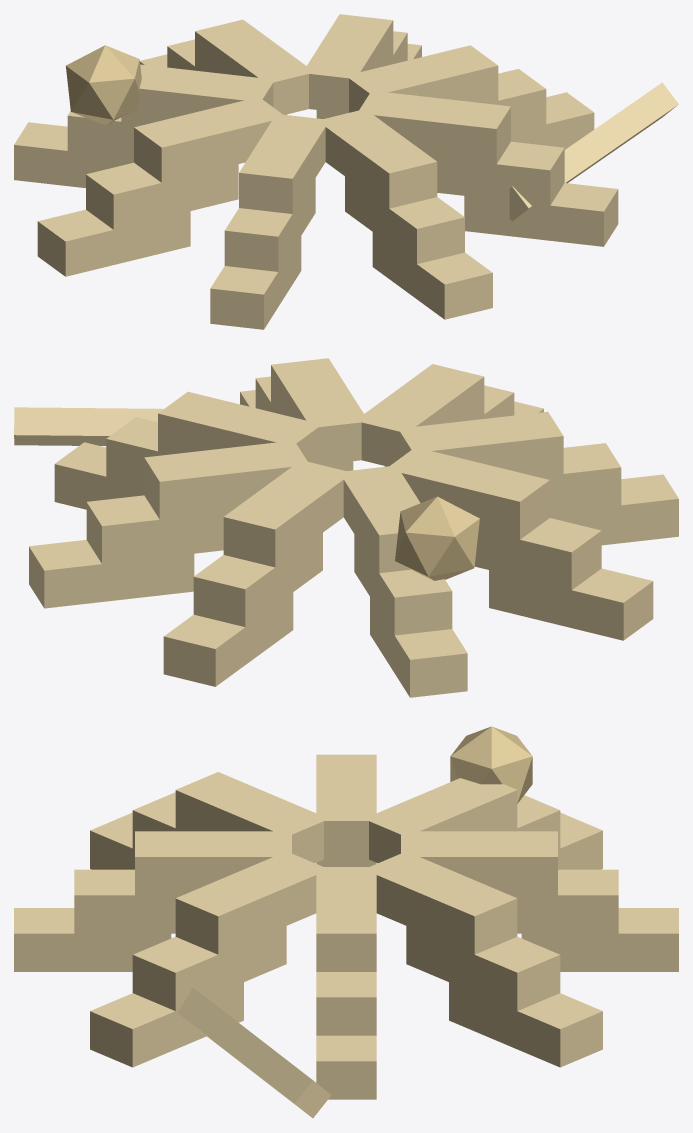
File: rope_coil.glb
3 renders of one model, top to bottom at view 1: azimuth 30°, elevation 25°; view 2: azimuth 150°, elevation 25°; view 3: azimuth 270°, elevation 25°, orthographic. The views are drawn at different scales.
Visible parts, largest first — view 1: coil_2_4, coil_2_6, coil_2_7, coil_0_4, coil_1_4, coil_0_7, coil_2_5, coil_2_0, coil_2_2, coil_1_7, coil_0_6, coil_1_6 (+12 smaller); view 2: coil_2_2, coil_2_1, coil_2_4, coil_0_1, coil_0_4, coil_2_5, coil_2_0, coil_1_1, coil_2_6, coil_0_2, coil_1_2, coil_2_7 (+12 smaller); view 3: coil_2_1, coil_2_7, coil_2_2, coil_2_6, coil_1_1, coil_0_1, coil_1_7, coil_2_5, coil_2_3, coil_0_2, coil_0_6, coil_0_7 (+12 smaller).
Boxes of the visible parts, bbox=[...] form: coil_2_4: bbox=[134, 97, 285, 182]; coil_2_6: bbox=[323, 110, 437, 208]; coil_2_7: bbox=[357, 90, 510, 164]; coil_0_4: bbox=[37, 209, 190, 276]; coil_1_4: bbox=[86, 162, 238, 229]; coil_0_7: bbox=[464, 183, 618, 246]; coil_2_5: bbox=[239, 114, 329, 213]; coil_2_0: bbox=[346, 45, 498, 112]; coil_2_2: bbox=[195, 19, 314, 114]; coil_1_7: bbox=[431, 141, 564, 205]; coil_0_6: bbox=[372, 232, 492, 319]; coil_1_6: bbox=[345, 176, 464, 263]; coil_2_2: bbox=[223, 462, 351, 567]; coil_2_1: bbox=[144, 442, 309, 519]; coil_2_4: bbox=[386, 447, 549, 539]; coil_0_1: bbox=[29, 539, 194, 608]; coil_0_4: bbox=[489, 568, 653, 640]; coil_2_5: bbox=[398, 411, 563, 476]; coil_2_0: bbox=[158, 391, 321, 464]; coil_1_1: bbox=[86, 495, 230, 563]; coil_2_6: bbox=[361, 364, 484, 466]; coil_0_2: bbox=[163, 592, 293, 686]; coil_1_2: bbox=[193, 533, 322, 627]; coil_2_7: bbox=[271, 358, 368, 464]; coil_2_1: bbox=[364, 851, 517, 954]; coil_2_7: bbox=[175, 851, 327, 954]; coil_2_2: bbox=[401, 831, 557, 895]; coil_2_6: bbox=[135, 831, 291, 895]; coil_1_1: bbox=[406, 926, 560, 1010]; coil_0_1: bbox=[449, 982, 602, 1067]; coil_1_7: bbox=[132, 926, 286, 1010]; coil_2_5: bbox=[175, 772, 324, 862]; coil_2_3: bbox=[368, 778, 517, 862]; coil_0_2: bbox=[521, 908, 678, 971]; coil_0_6: bbox=[14, 908, 171, 971]; coil_0_7: bbox=[90, 982, 243, 1067].
Size of the model in its own units: 1.25 by 0.285 by 1.1.
